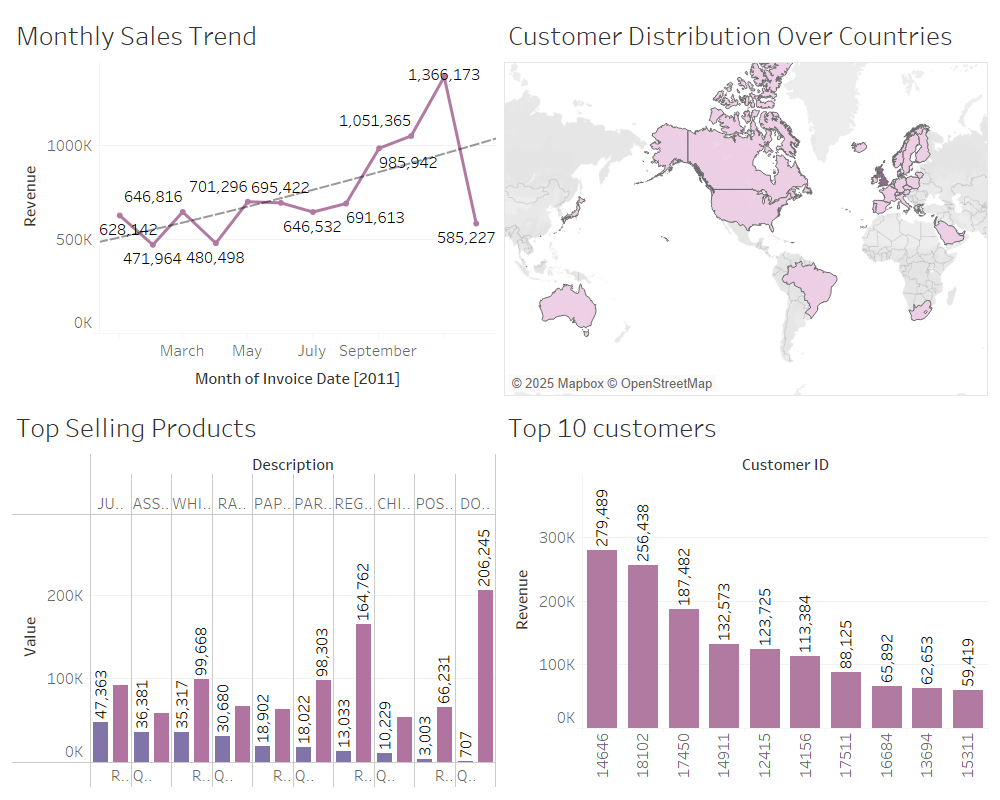

This screenshot's page, from the dashboard's own definition file:
{"tool":"tableau","page":{"name":"Dashboard 1","canvas":[1000,800],"ordinal":0},"visuals":[{"type":"worksheet","title":"monthly sales trend","mark":"Automatic","rows":["Calculation_733523848247394304"],"cols":["InvoiceDate"],"box":[8,8,492,392]},{"type":"worksheet","title":"Customer Distribution Over Countries","mark":"Automatic","box":[500,8,492,392]},{"type":"worksheet","title":"Top Selling Products","mark":"Automatic","cols":["Description"],"box":[8,400,492,392]},{"type":"worksheet","title":"Top customers","mark":"Automatic","rows":["Calculation_733523848247394304"],"cols":["CustomerID"],"box":[500,400,492,392]}]}

Visuals, with their boxes in screenshot pixels (x1, y1, x2, y2), scaled from the page's 1000x800 canvas onto the 1000x800 screenshot:
"monthly sales trend" worksheet: [8, 8, 500, 400]
"Customer Distribution Over Countries" worksheet: [500, 8, 992, 400]
"Top Selling Products" worksheet: [8, 400, 500, 792]
"Top customers" worksheet: [500, 400, 992, 792]
